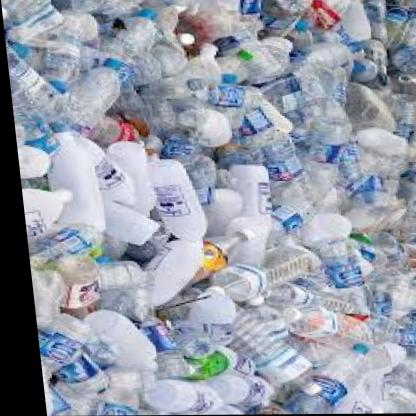Plastic: (2, 0, 416, 413)
